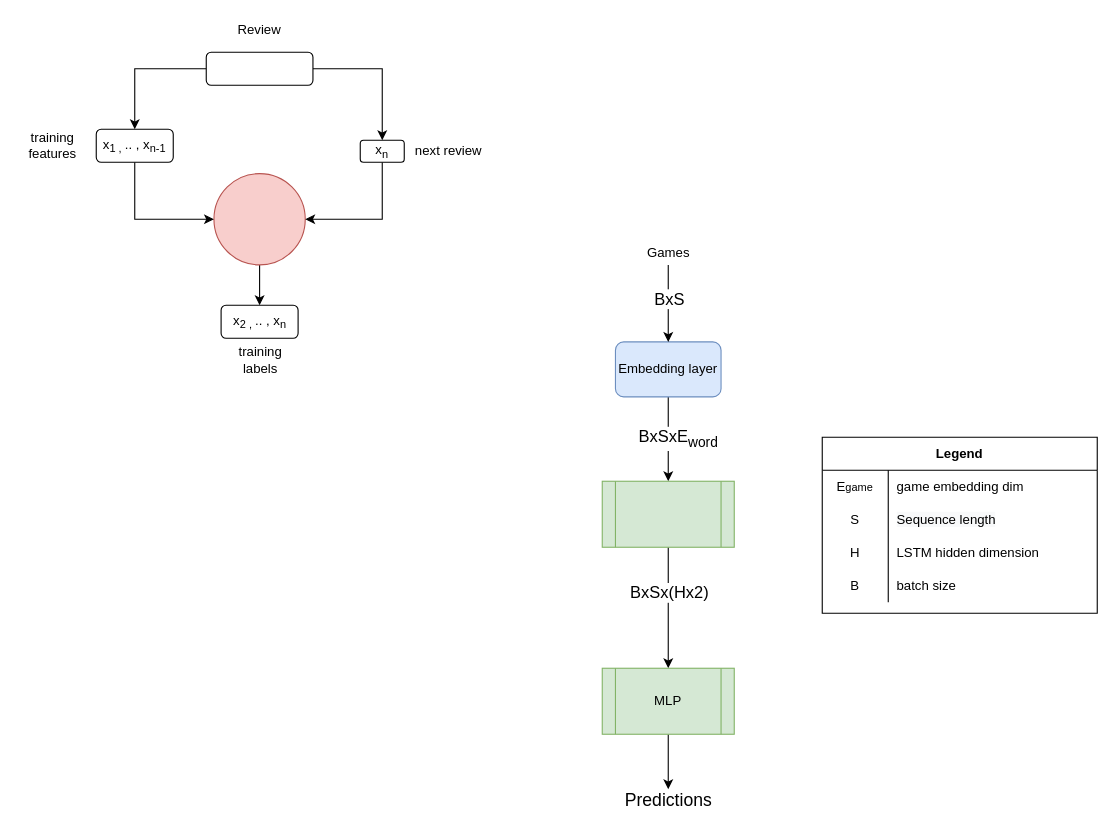
Some shapes in this 1117 by 829 pixel diagram are drawn without their labels. Each missing label, with the centre of its shape:
LSTM: pixel 667 513
shift and concat: pixel 259 218
x 1 , .. , x n: pixel 259 68
